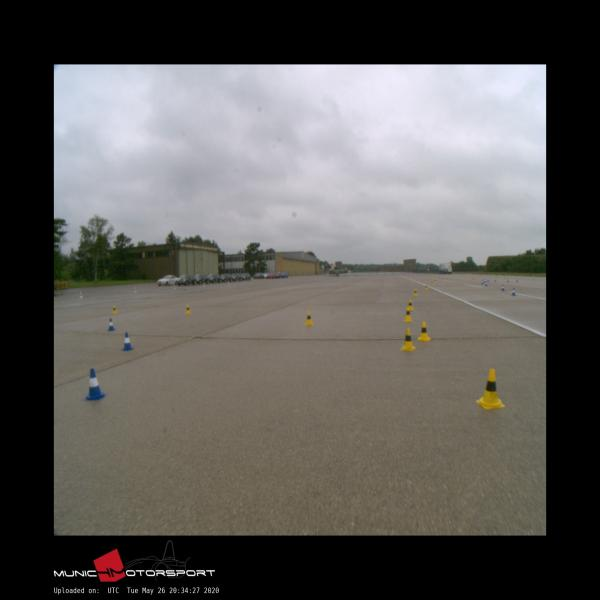blue_cone: (85, 368, 107, 400), (121, 331, 133, 350), (107, 318, 115, 330), (512, 288, 516, 296), (501, 284, 505, 291)
yellow_cone: (476, 368, 504, 409), (400, 328, 415, 350), (418, 322, 430, 340), (402, 307, 413, 321), (304, 311, 313, 325), (185, 305, 191, 314), (408, 300, 413, 310), (112, 305, 117, 313), (414, 288, 418, 296)
